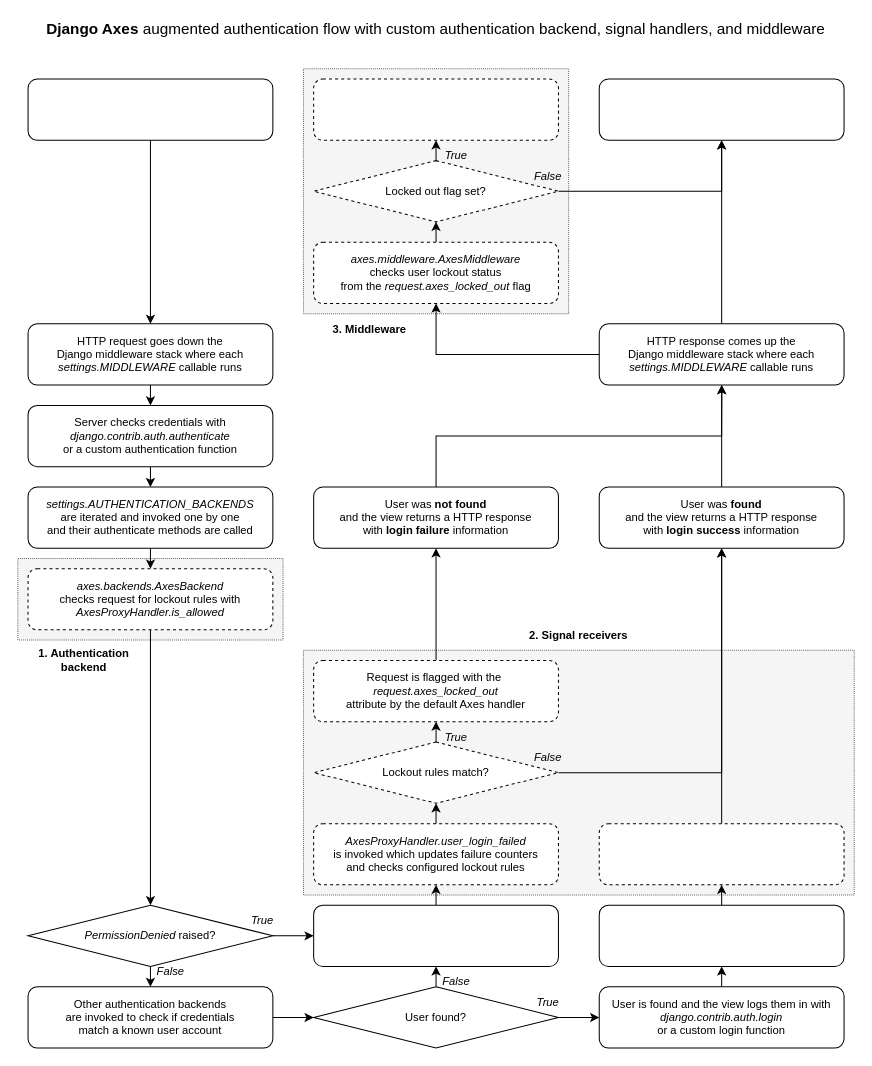
Image size: 872x1066. Some labels were removed from this diagram. Here are the shapes that lost their labels. From the top down, the centre of each, then its label:
(150,109): Client sends a HTTP request to the Django server login view
(435,109): Client receives a HTTP response from axes.middleware.AxesMiddleware
(721,109): Client receives a HTTP response from the Django server login view
(721,854): AxesProxyHandler.user_logged_in is invoked which updates access records
(435,935): django.contrib.auth.user_login_failed signal invokes each registered handler
(721,935): django.contrib.auth.user_logged_in signal invokes each registered handlers
